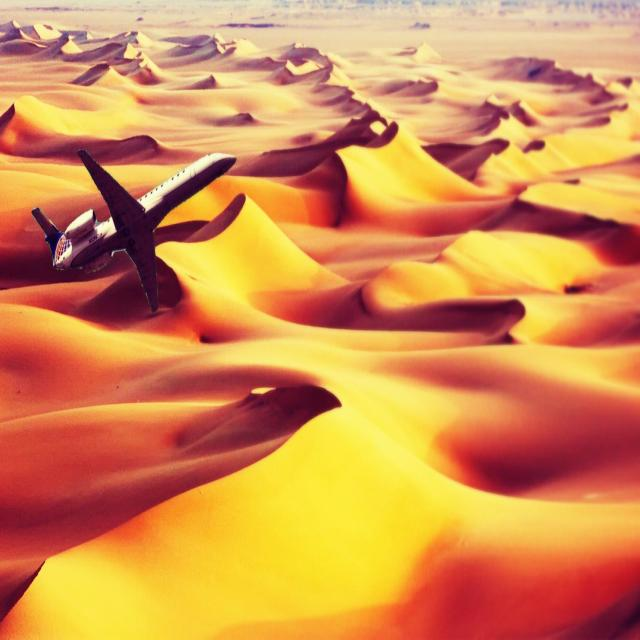airplane: (30, 146, 236, 313)
